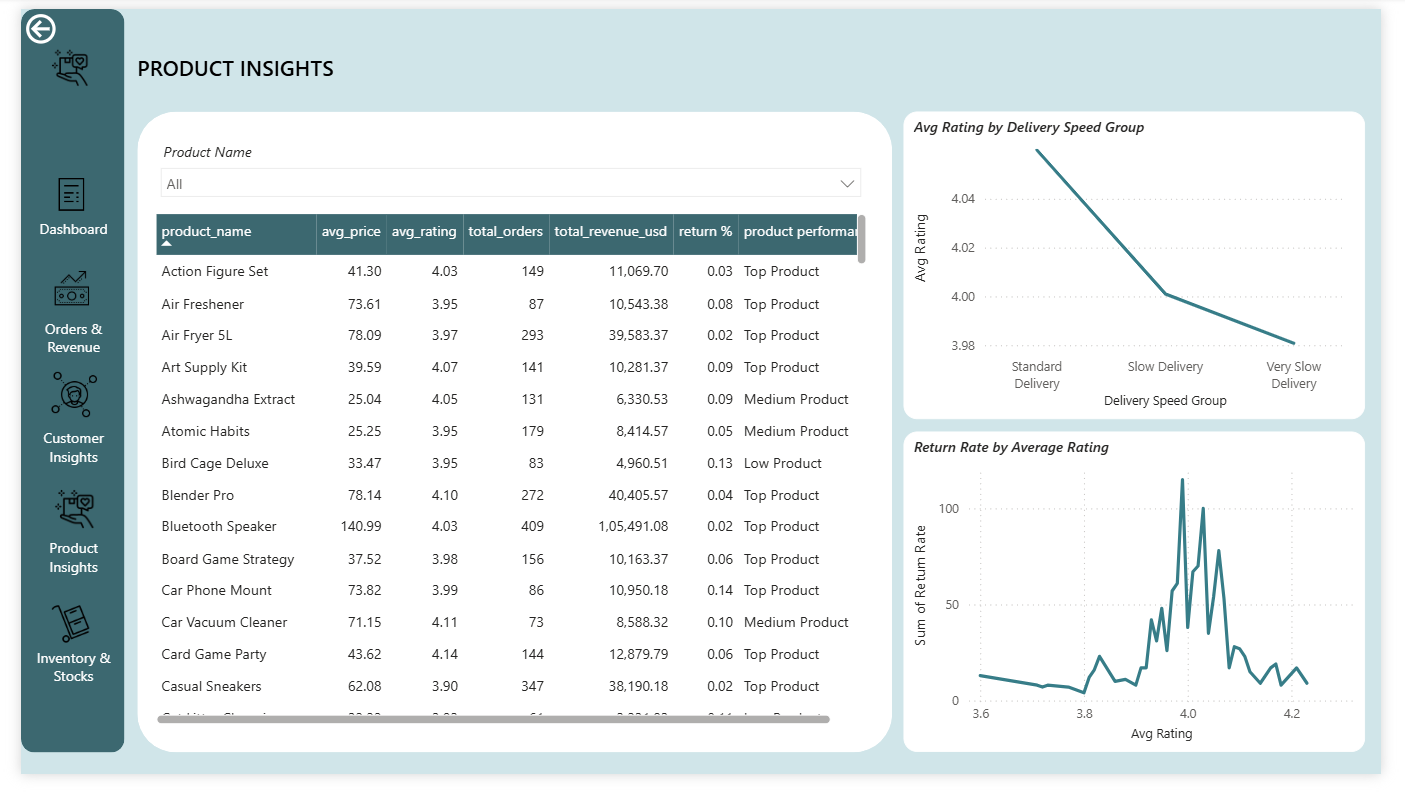

What the dashboard file says about the page in this screenshot:
{"tool":"powerbi","page":{"name":"Product Insights","canvas":[1280,720],"ordinal":3},"visuals":[{"type":"shape","box":[109.8,96.5,710.6,603.2],"z":0},{"type":"tableEx","fields":{"Values":["product_summary.product_name","product_summary.avg_price","product_summary.avg_rating","product_summary.total_orders","product_summary.total_revenue_usd","product_summary.return %","product_summary.product performance"]},"box":[120.6,188.2,679.2,489.8],"z":1000},{"type":"slicer","fields":{"Values":["product_summary.product_name"]},"box":[120.6,119.4,679.2,68.8],"z":2000},{"type":"lineChart","fields":{"Category":["product_summary.Delivery Speed Group"],"Y":["product_summary.Avg Rating"]},"box":[830.6,96,434.1,289.4],"z":3000},{"type":"lineChart","title":"Return Rate by Average Rating","fields":{"Category":["product_summary.avg_rating"],"Y":["Sum(product_summary.return_rate)"]},"box":[830,398.1,434.3,301.6],"z":4000},{"type":"shape","box":[0,0,97.4,699.8],"z":5000},{"type":"pageNavigator","box":[10.9,158,78.4,510.3],"z":6000},{"type":"image","box":[8.4,158,78.4,33.8],"z":7000},{"type":"image","box":[9.7,241.3,77.2,43.4],"z":8000},{"type":"image","box":[10.9,337.8,78.4,50.7],"z":9000},{"type":"image","box":[12.1,448.8,77.2,44.6],"z":10000},{"type":"image","box":[8.4,561,77.2,35],"z":11000},{"type":"image","box":[6,41,79.6,42.2],"z":12000},{"type":"shape","box":[109.8,33.8,359.5,57.9],"z":13000},{"type":"actionButton","box":[0,0,100.1,37.4],"z":14000}]}

Visuals, with their boxes on the page's 1280x720 design canvas (x1, y1, x2, y2). These are canvas units, not pixel positions in the 1405x796 screenshot, which may show the page scaled, cropped or inside an application window:
shape: 110:96:820:700
tableEx - product_summary.product_name x product_summary.avg_price: 121:188:800:678
slicer - product_summary.product_name: 121:119:800:188
lineChart - product_summary.Delivery Speed Group x product_summary.Avg Rating: 831:96:1265:385
"Return Rate by Average Rating" lineChart: 830:398:1264:700
shape: 0:0:97:700
pageNavigator: 11:158:89:668
image: 8:158:87:192
image: 10:241:87:285
image: 11:338:89:388
image: 12:449:89:493
image: 8:561:86:596
image: 6:41:86:83
shape: 110:34:469:92
actionButton: 0:0:100:37
